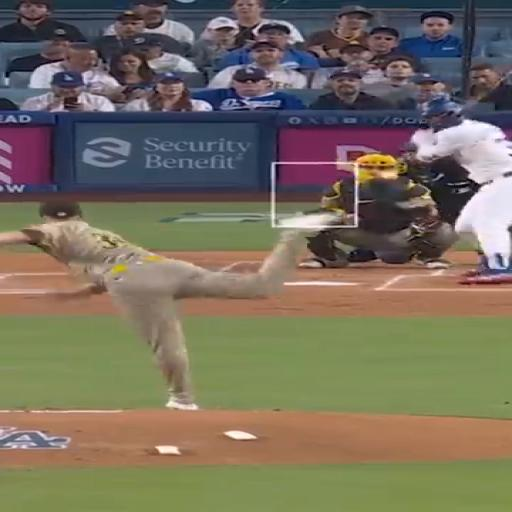bat: (461, 73, 511, 115)
